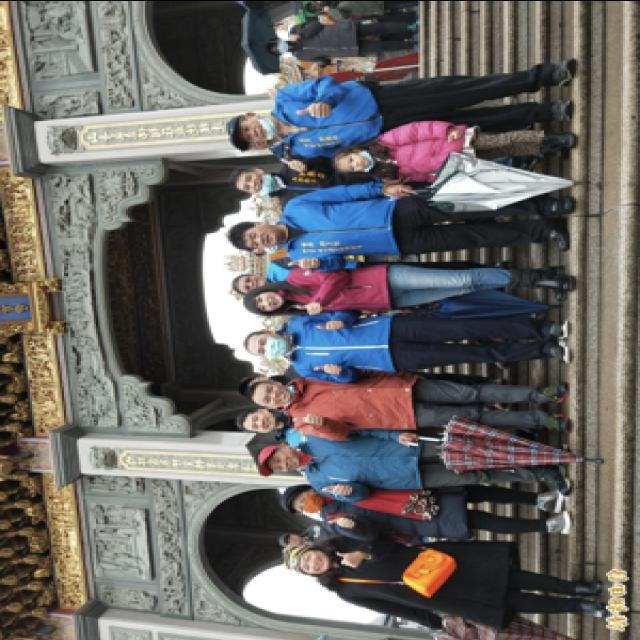mask_weared_incorrect: (241, 114, 273, 140), (258, 381, 290, 406), (342, 148, 372, 170), (241, 170, 273, 190)
with_mask: (254, 330, 286, 356), (294, 488, 322, 512), (271, 38, 290, 52)
without_mask: (246, 220, 276, 247), (298, 547, 328, 573), (271, 446, 299, 471), (250, 290, 282, 310), (250, 408, 276, 430), (238, 272, 264, 293), (284, 532, 301, 546)
